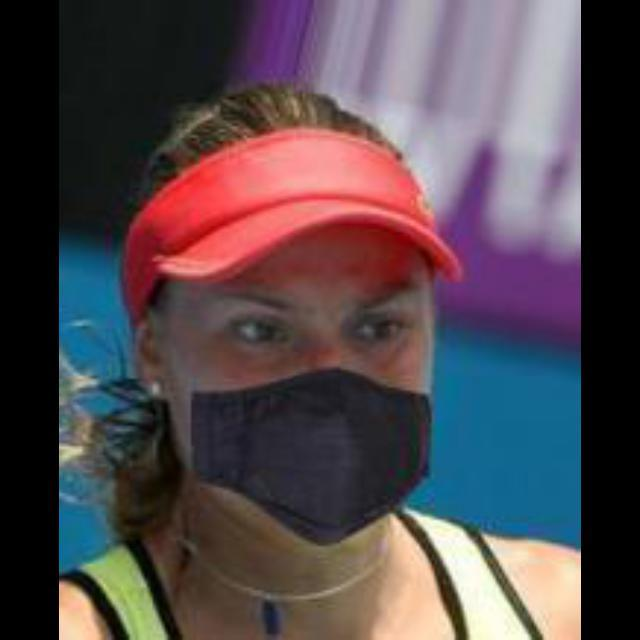suspicion: (142, 226, 492, 566)
